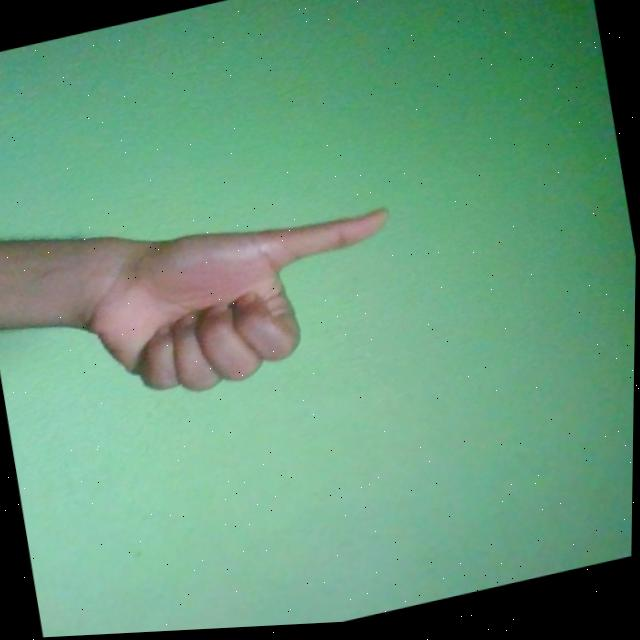Good Job: (67, 193, 412, 419)
